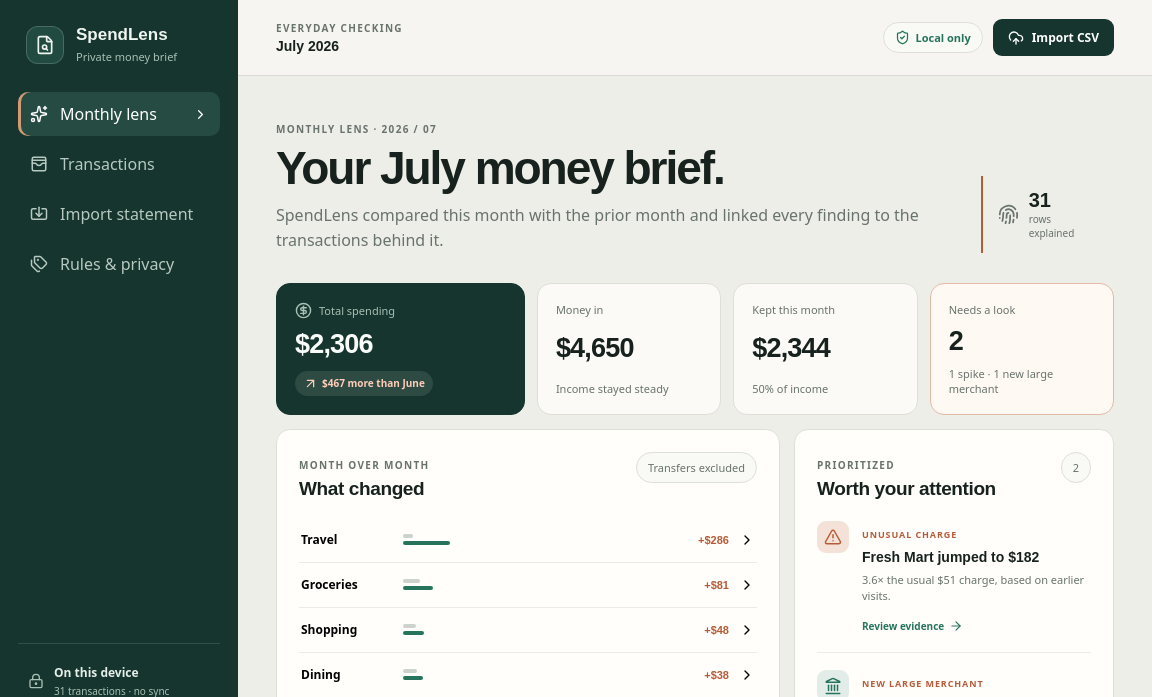
it: SpendLens product workflow › opens the contributing transaction from an anomaly finding
The width and height of the screenshot is (1152, 697).
Click the button with aria-label "Review Fresh Mart spike".
click(913, 626)  # box [862,619,963,633]
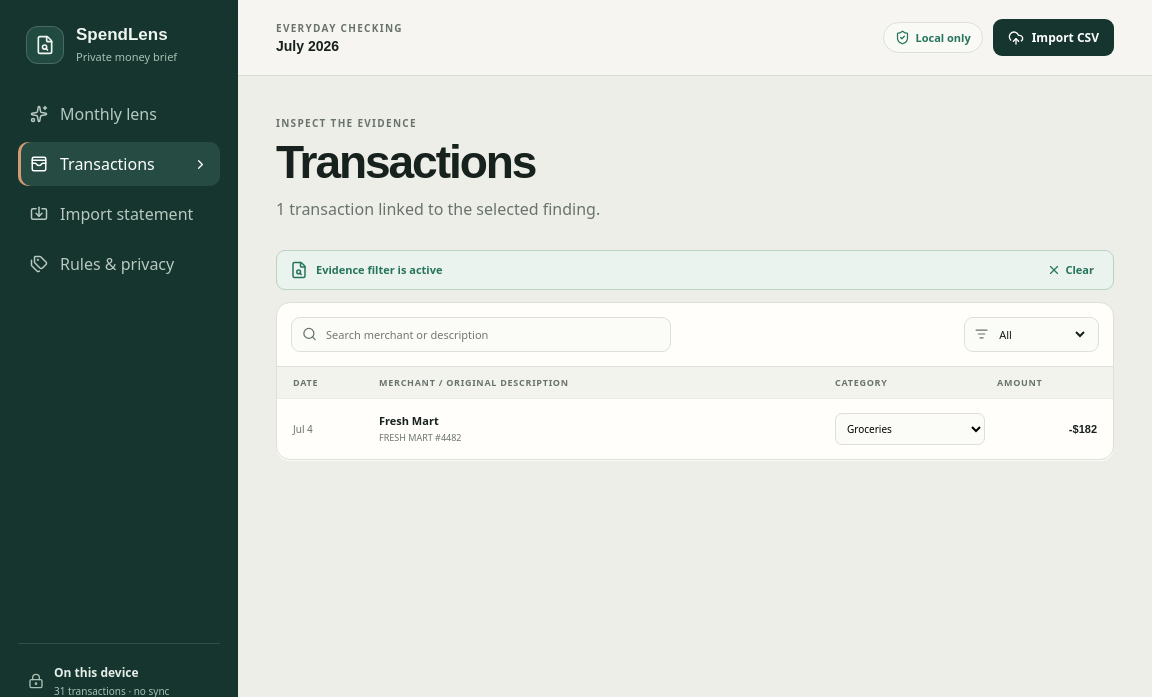
Now the heading "Transactions" is shown, box [276,136,535,188]
Now the text "FRESH MART #4482" is shown, box [379,431,462,444]
